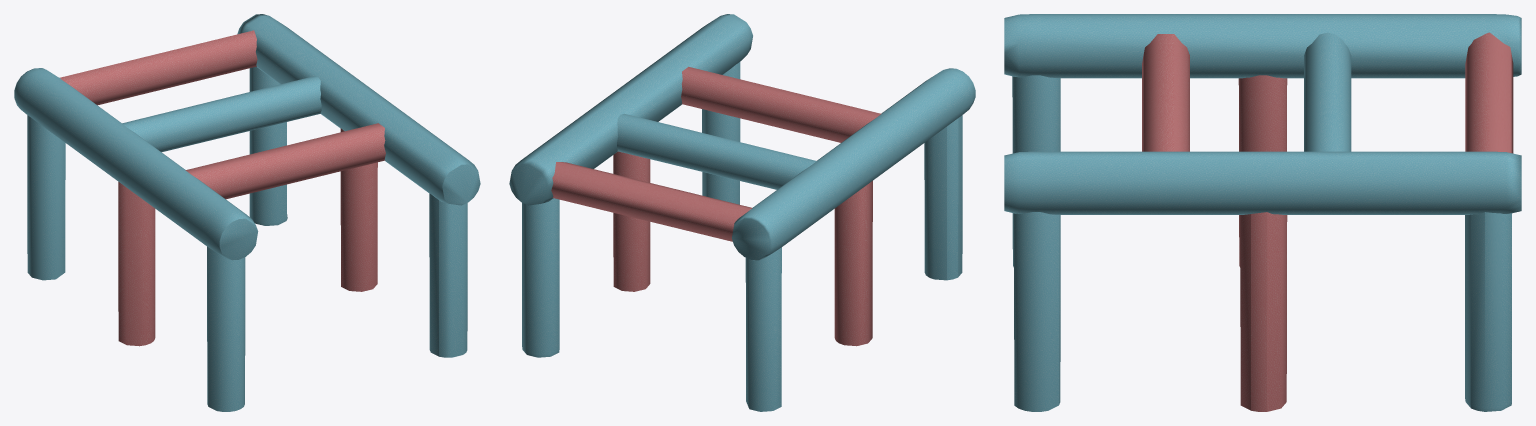
The model's file is PLF0110180.fbx.
3 renders of one model, left to right at view 1: azimuth 30°, elevation 25°; view 2: azimuth 150°, elevation 25°; view 3: azimuth 270°, elevation 25°, orthographic. The views are drawn at different scales.
Parts seen in each view (by area): view 1: smPLF0110180; view 2: smPLF0110180; view 3: smPLF0110180.
Boxes of the visible parts, <box> form: smPLF0110180: <box>14,14,480,411</box>; smPLF0110180: <box>509,14,975,411</box>; smPLF0110180: <box>1004,14,1521,411</box>.
Size of the model in its own units: 442 by 314 by 591.
Materials: 1 (1 with a texture image).
